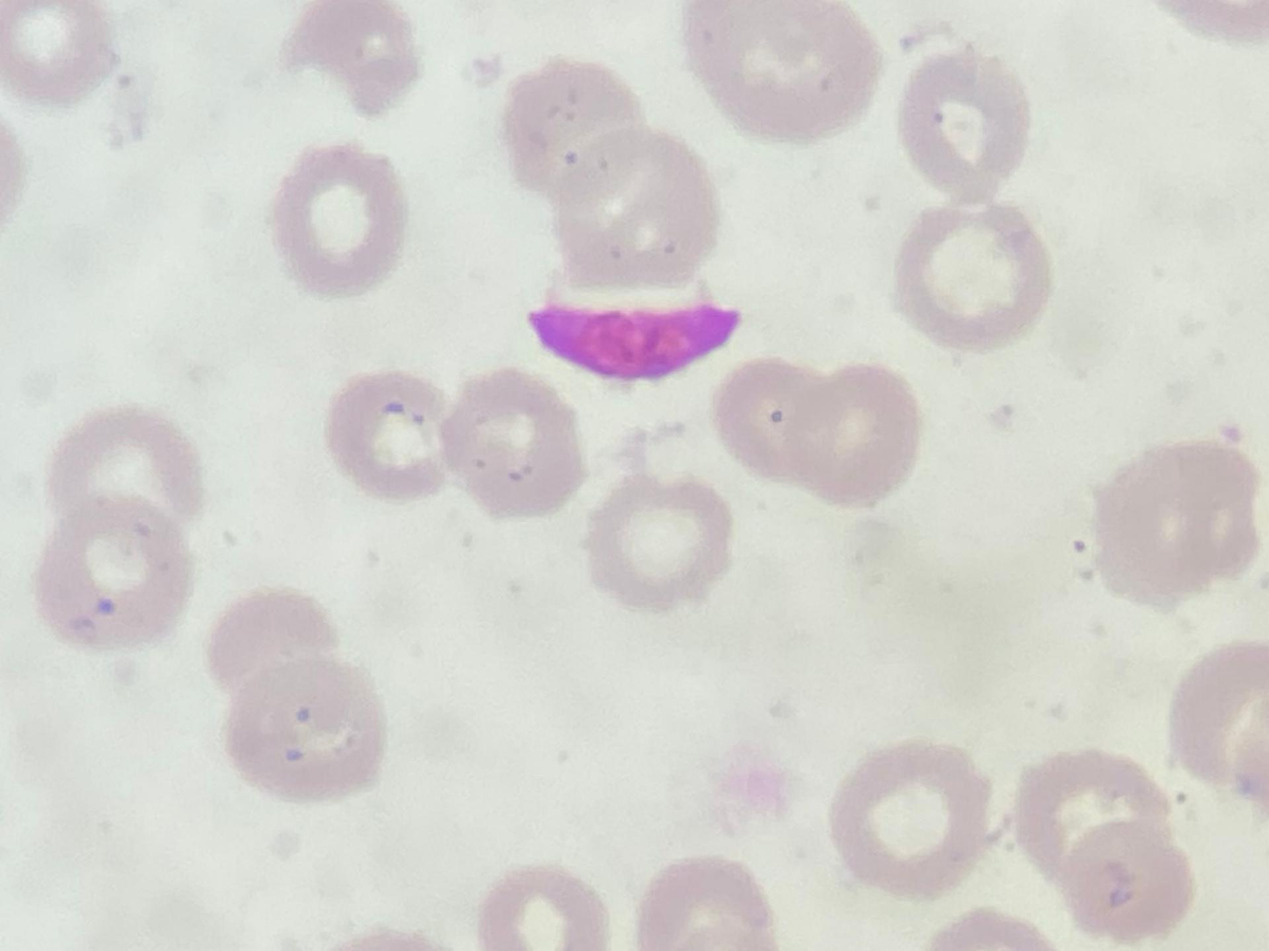Infected: (525, 296, 742, 378)
Uninfected: (681, 0, 876, 144), (554, 129, 716, 292), (1089, 445, 1258, 601), (833, 739, 991, 900), (38, 494, 194, 649), (1015, 749, 1164, 900), (444, 364, 588, 520), (230, 658, 385, 802), (894, 210, 1050, 347), (271, 146, 408, 298), (46, 400, 203, 528), (506, 60, 646, 198), (901, 53, 1032, 198), (590, 481, 732, 614), (793, 364, 922, 509), (324, 374, 458, 505), (712, 356, 845, 481), (1059, 818, 1196, 935), (284, 5, 418, 121), (205, 585, 336, 703), (633, 855, 773, 951), (0, 0, 110, 108), (479, 869, 606, 951)
